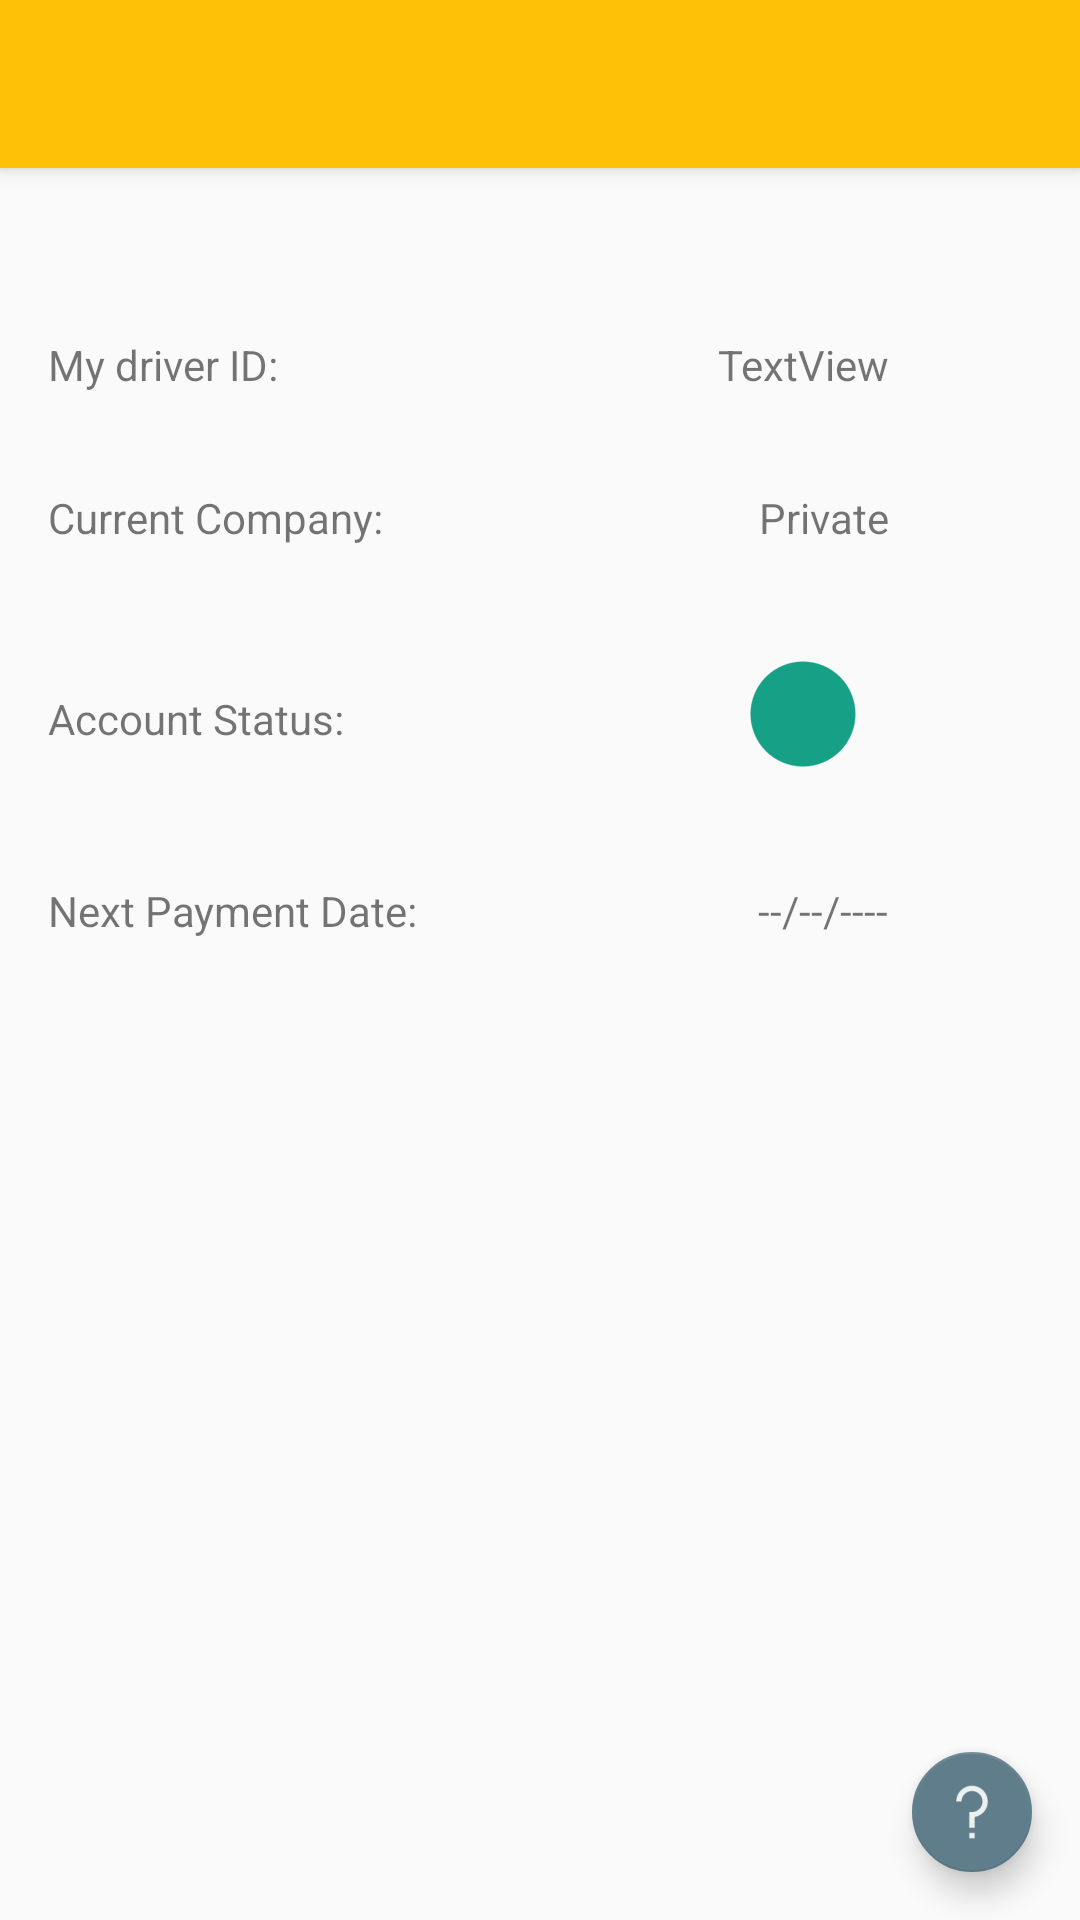

Where icons sit on this 1080 x 1920 app screen, as region(x1, y1, x2, y2):
question mark: region(912, 1752, 1032, 1872)
